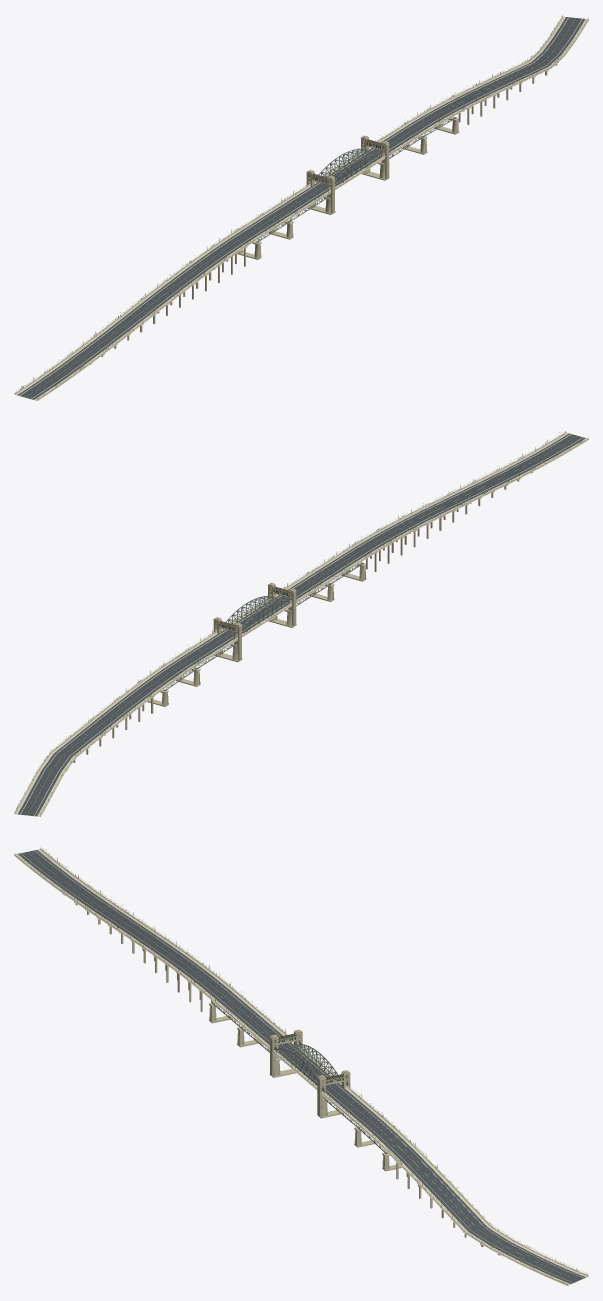
The model's file is burrard-street-bridge-near.glb.
3 views of the same model, one above another, from view 1: azimuth 30°, elevation 25°; view 2: azimuth 210°, elevation 25°; view 3: azimuth 270°, elevation 25° (orthographic). The views are drawn at different scales.
Parts seen in each view (by area): view 1: burrard-street-bridge-0-asphalt, burrard-street-bridge-0-concrete, burrard-street-bridge-0-stone, burrard-street-bridge-1-stone, burrard-street-bridge-0-steel, burrard-street-bridge-1-steel; view 2: burrard-street-bridge-0-asphalt, burrard-street-bridge-0-concrete, burrard-street-bridge-0-stone, burrard-street-bridge-1-stone, burrard-street-bridge-0-steel, burrard-street-bridge-1-steel; view 3: burrard-street-bridge-0-asphalt, burrard-street-bridge-0-concrete, burrard-street-bridge-0-stone, burrard-street-bridge-1-stone, burrard-street-bridge-0-steel, burrard-street-bridge-1-steel.
Part boxes in pixels (box(x1,y1,x2,y2)): burrard-street-bridge-0-asphalt: box(17, 17, 584, 399); burrard-street-bridge-0-concrete: box(14, 15, 588, 401); burrard-street-bridge-0-stone: box(14, 16, 588, 400); burrard-street-bridge-1-stone: box(337, 20, 583, 180); burrard-street-bridge-0-steel: box(20, 17, 588, 398); burrard-street-bridge-1-steel: box(339, 15, 586, 172); burrard-street-bridge-0-asphalt: box(18, 433, 585, 816); burrard-street-bridge-0-concrete: box(14, 431, 588, 817); burrard-street-bridge-0-stone: box(14, 432, 588, 816); burrard-street-bridge-1-stone: box(14, 617, 265, 813); burrard-street-bridge-0-steel: box(20, 431, 582, 813); burrard-street-bridge-1-steel: box(16, 603, 263, 813); burrard-street-bridge-0-asphalt: box(18, 850, 585, 1283); burrard-street-bridge-0-concrete: box(14, 848, 588, 1286); burrard-street-bridge-0-stone: box(14, 848, 588, 1285); burrard-street-bridge-1-stone: box(297, 1068, 587, 1284); burrard-street-bridge-0-steel: box(16, 846, 576, 1279); burrard-street-bridge-1-steel: box(297, 1053, 586, 1281).
Size of the model in its own units: 927 by 42.58 by 516.
